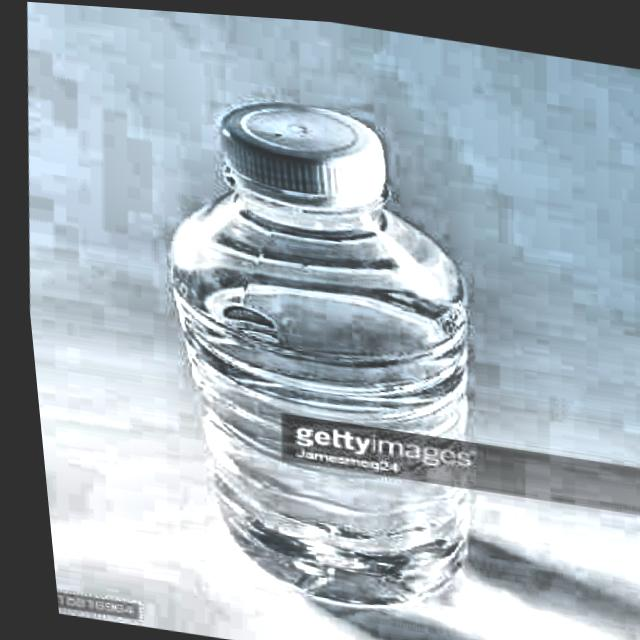Bottles: (110, 47, 549, 640)
